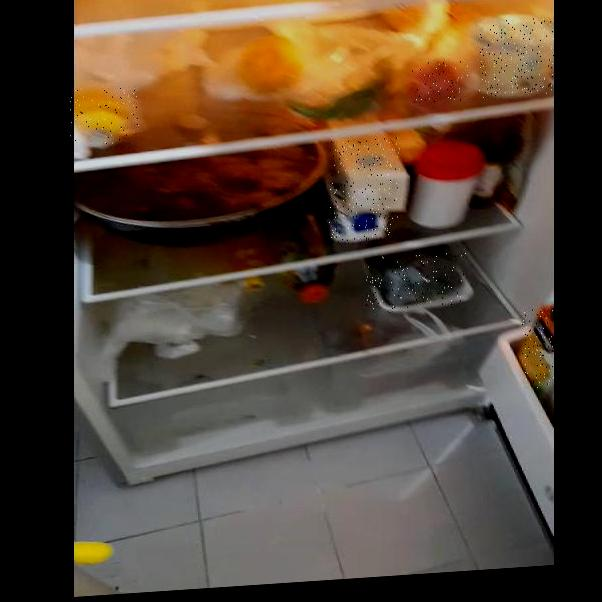broccoli: (365, 251, 467, 312)
juice: (522, 308, 554, 389)
lemon: (70, 85, 139, 146)
milk: (329, 137, 400, 244)
tomato: (413, 60, 468, 104)
yoghurt: (479, 16, 554, 98)
